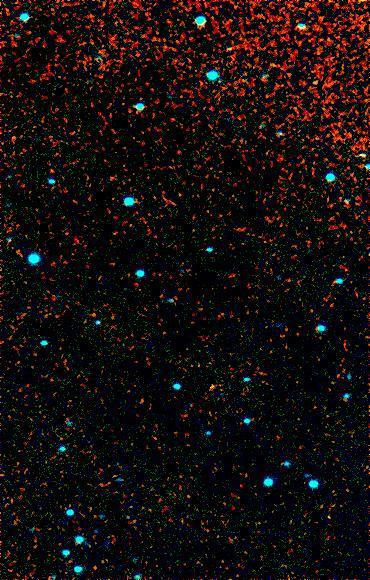star: (197, 371, 227, 401)
